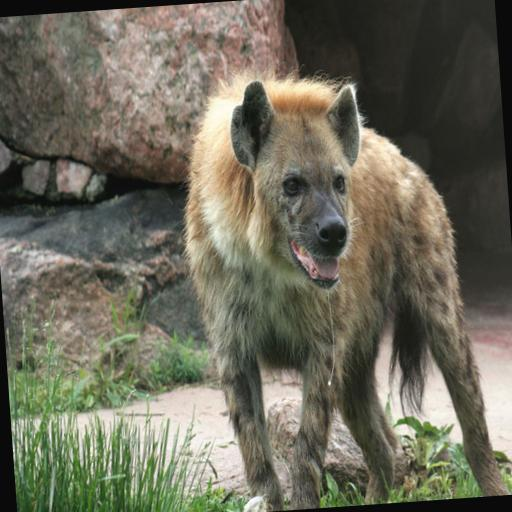hyenas: (129, 24, 499, 512)
